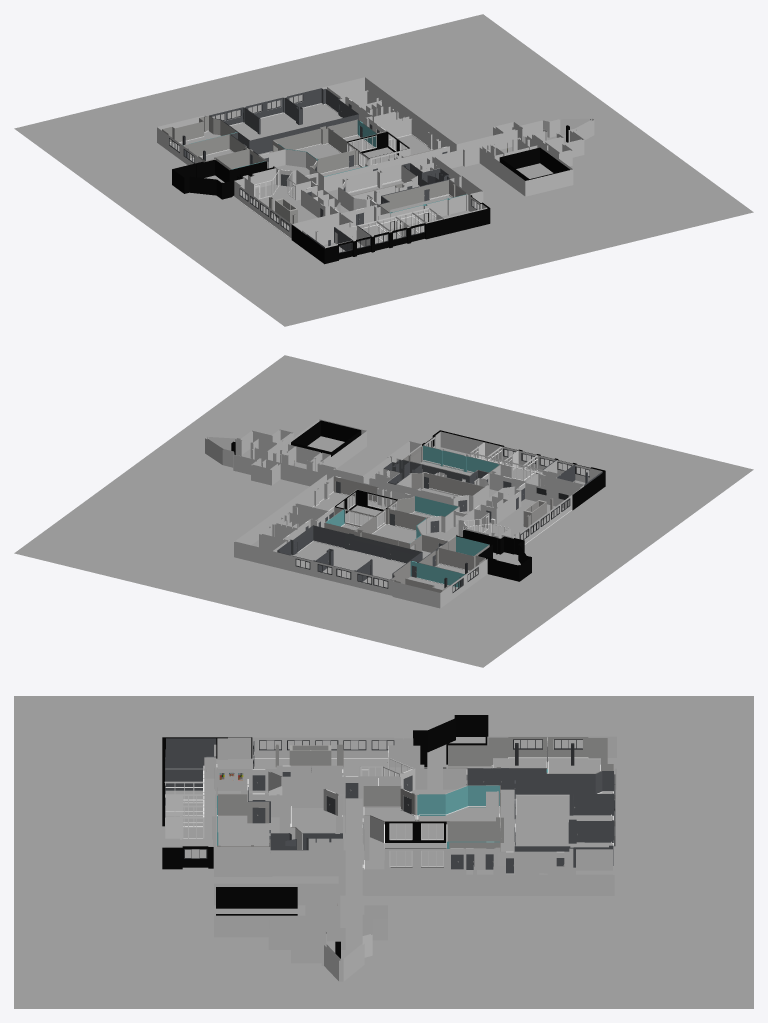
Rendered from LOCAUX.fbx.
3 renders of one model, top to bottom at view 1: azimuth 30°, elevation 25°; view 2: azimuth 150°, elevation 25°; view 3: azimuth 270°, elevation 25°, orthographic. The views are drawn at different scales.
Visible parts, largest first — view 1: SOL, murs_locaux1:mur_couloir_ext, murs_locaux1:export_lambert_defectueux_polySurface1476, murs_locaux1:murs_admin_blanc_brunni, murs_locaux1:export_lambert_defectueux_polySurface1461, mur_blanc_coworking, murs_locaux1:export_lambert_defectueux_CAGE_ESCALIERS, murs_locaux1:polySurface99, murs_locaux1:mur_gris_chrome_b2, murs_locaux1:mur_blanc_brunni_a9, murs_locaux1:export_lambert_defectueux_polySurface1320, murs_locaux1:mur_gris_chrome_a8 (+11 smaller); view 2: SOL, murs_locaux1:polySurface99, murs_locaux1:mur_couloir_ext, murs_locaux1:export_lambert_defectueux_polySurface1476, murs_locaux1:murs_admin_blanc_brunni, mur_blanc_coworking, murs_locaux1:export_lambert_defectueux_CAGE_ESCALIERS, murs_locaux1:export_lambert_defectueux_polySurface1320, murs_locaux1:mur_bleu_natuna_b2, mur_gris_pekin_a6, murs_locaux1:mur_blanc_brunni_a9, murs_locaux1:mur_couloir_a_gris_chrome (+11 smaller); view 3: SOL, murs_locaux1:mur_couloir_ext, murs_locaux1:polySurface99, murs_locaux1:export_lambert_defectueux_polySurface1476, mur_blanc_coworking, murs_locaux1:mur_gris_pekin_a4, murs_locaux1:murs_admin_blanc_brunni, murs_locaux1:export_lambert_defectueux_polySurface1320, murs_locaux1:export_lambert_defectueux_CAGE_ESCALIERS, murs_locaux1:murs_admin_bureaux, murs_locaux1:mur_bleu_natuna_a8, murs_locaux1:mur_blanc_brunni_a9 (+18 smaller).
Part boxes in pixels (left/top/right/bottom): SOL: left=14, top=14, right=753, bottom=326; murs_locaux1:mur_couloir_ext: left=259, top=118, right=573, bottom=214; murs_locaux1:export_lambert_defectueux_polySurface1476: left=327, top=78, right=591, bottom=158; murs_locaux1:murs_admin_blanc_brunni: left=292, top=194, right=487, bottom=248; murs_locaux1:export_lambert_defectueux_polySurface1461: left=291, top=195, right=490, bottom=264; mur_blanc_coworking: left=234, top=168, right=339, bottom=238; murs_locaux1:export_lambert_defectueux_CAGE_ESCALIERS: left=172, top=160, right=274, bottom=199; murs_locaux1:polySurface99: left=157, top=77, right=594, bottom=166; murs_locaux1:mur_gris_chrome_b2: left=379, top=180, right=466, bottom=212; murs_locaux1:mur_blanc_brunni_a9: left=366, top=119, right=448, bottom=166; murs_locaux1:export_lambert_defectueux_polySurface1320: left=499, top=147, right=569, bottom=180; murs_locaux1:mur_gris_chrome_a8: left=274, top=128, right=356, bottom=159; SOL: left=14, top=355, right=753, bottom=667; murs_locaux1:polySurface99: left=205, top=429, right=487, bottom=608; murs_locaux1:mur_couloir_ext: left=273, top=419, right=525, bottom=547; murs_locaux1:export_lambert_defectueux_polySurface1476: left=207, top=430, right=328, bottom=552; murs_locaux1:murs_admin_blanc_brunni: left=423, top=431, right=602, bottom=509; mur_blanc_coworking: left=460, top=483, right=571, bottom=544; murs_locaux1:export_lambert_defectueux_CAGE_ESCALIERS: left=456, top=530, right=531, bottom=581; murs_locaux1:export_lambert_defectueux_polySurface1320: left=291, top=420, right=361, bottom=456; murs_locaux1:mur_bleu_natuna_b2: left=423, top=445, right=499, bottom=472; mur_gris_pekin_a6: left=277, top=526, right=349, bottom=561; murs_locaux1:mur_blanc_brunni_a9: left=297, top=477, right=414, bottom=519; murs_locaux1:mur_couloir_a_gris_chrome: left=324, top=507, right=446, bottom=552; SOL: left=14, top=696, right=753, bottom=1008; murs_locaux1:mur_couloir_ext: left=214, top=768, right=467, bottom=937; murs_locaux1:polySurface99: left=268, top=736, right=616, bottom=981; murs_locaux1:export_lambert_defectueux_polySurface1476: left=268, top=847, right=612, bottom=960; mur_blanc_coworking: left=252, top=737, right=420, bottom=777; murs_locaux1:mur_gris_pekin_a4: left=515, top=771, right=614, bottom=810; murs_locaux1:murs_admin_blanc_brunni: left=165, top=737, right=251, bottom=866; murs_locaux1:export_lambert_defectueux_polySurface1320: left=216, top=887, right=297, bottom=915; murs_locaux1:export_lambert_defectueux_CAGE_ESCALIERS: left=413, top=715, right=488, bottom=768; murs_locaux1:murs_admin_bureaux: left=164, top=768, right=204, bottom=839; murs_locaux1:mur_bleu_natuna_a8: left=417, top=785, right=499, bottom=816; murs_locaux1:mur_blanc_brunni_a9: left=363, top=815, right=466, bottom=869.
Size of the model in its own units: 8484 by 281 by 8484.
